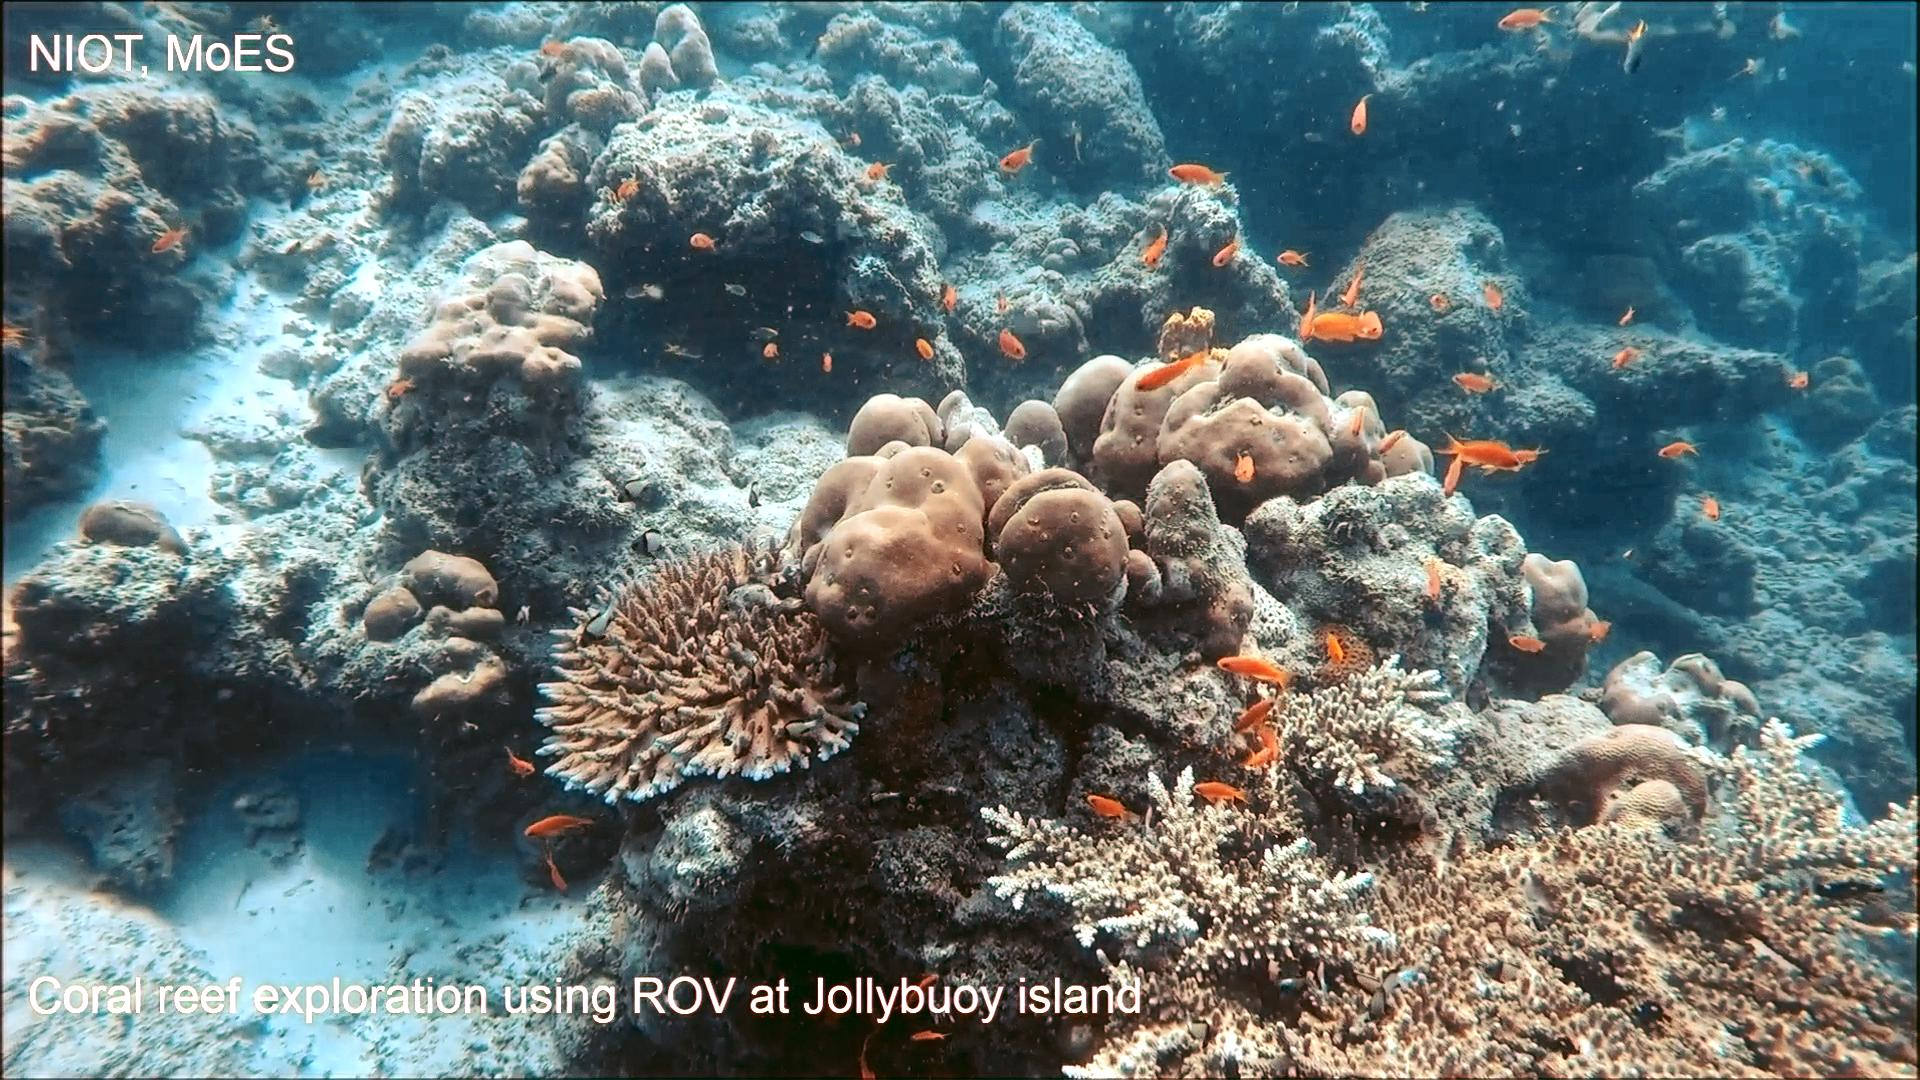Porites-Porites pukoensis: (781, 385, 1133, 659), (1034, 322, 1437, 508)
